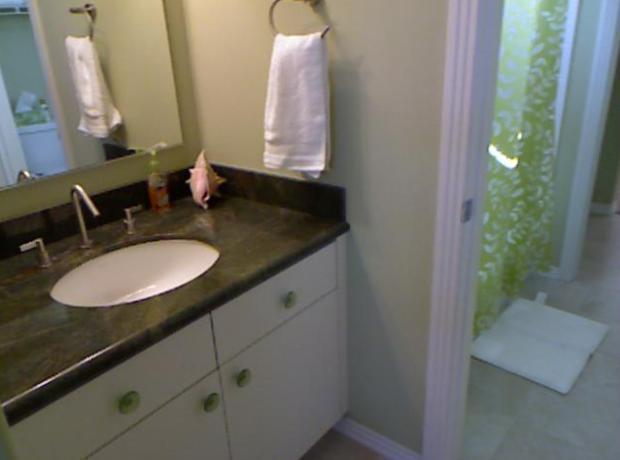Ducha: (190, 0, 588, 459)
Lavamanos: (14, 176, 225, 323)
